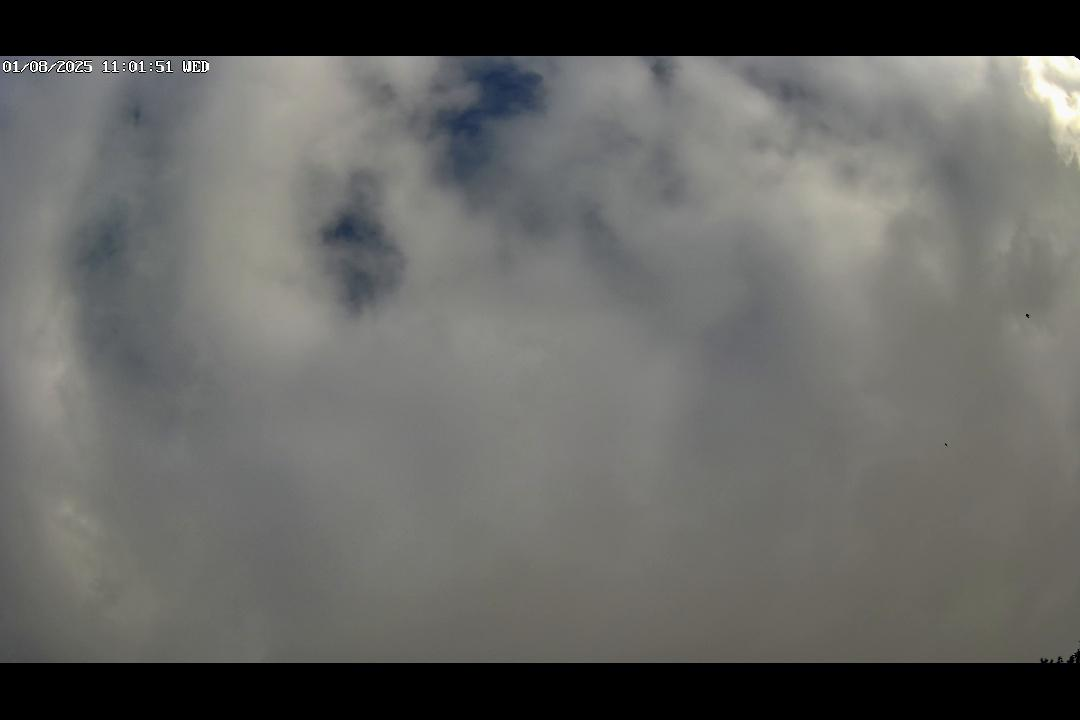WildLife: (1013, 306, 1042, 326), (941, 437, 954, 453)
